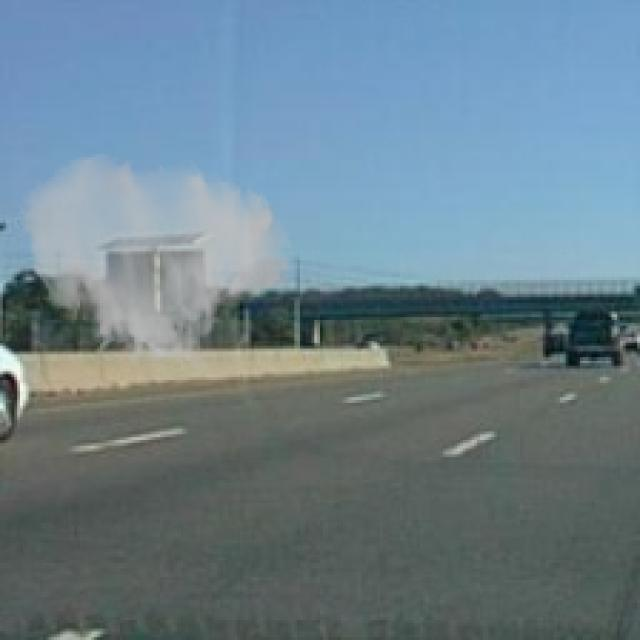smoke: (17, 152, 294, 374)
